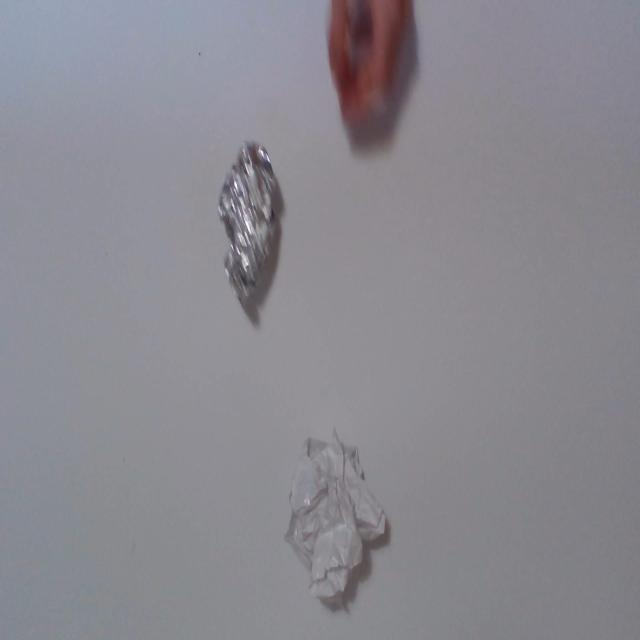Paper: (294, 424, 387, 607)
